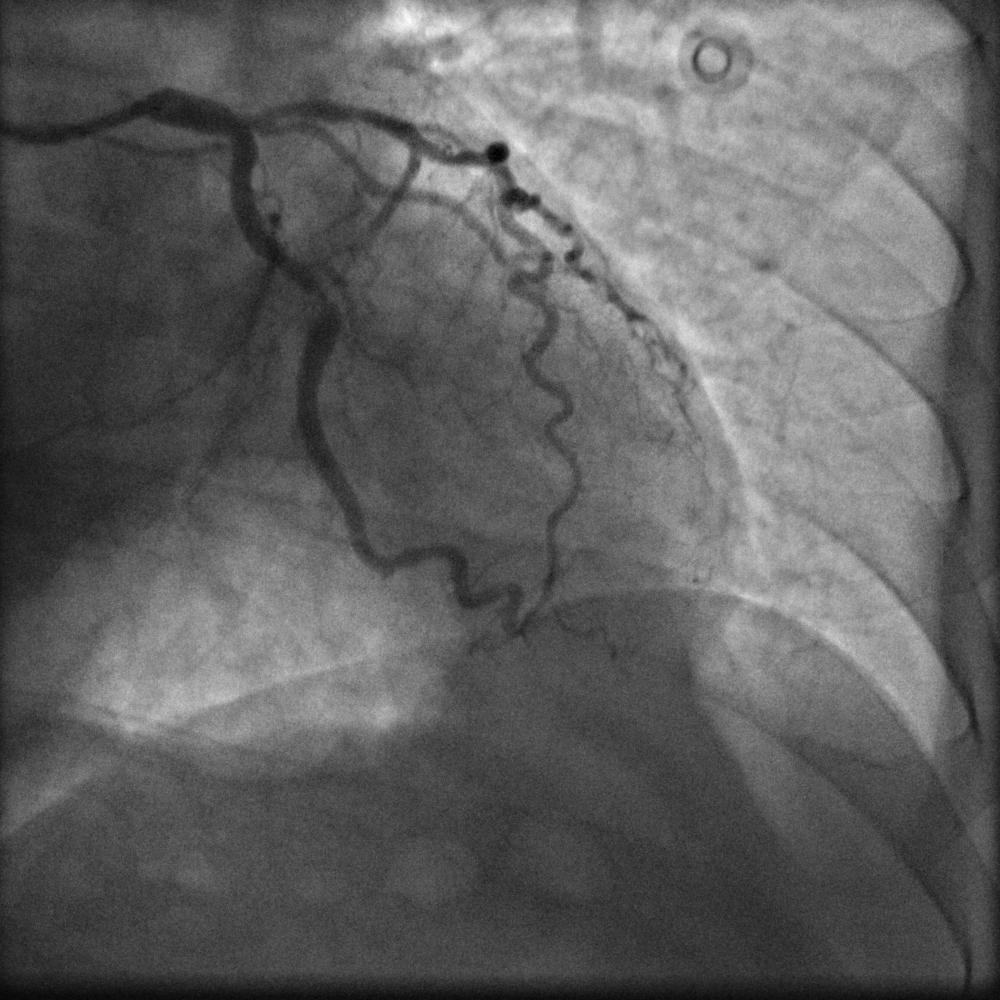Stenosis: (306, 280, 342, 322)
